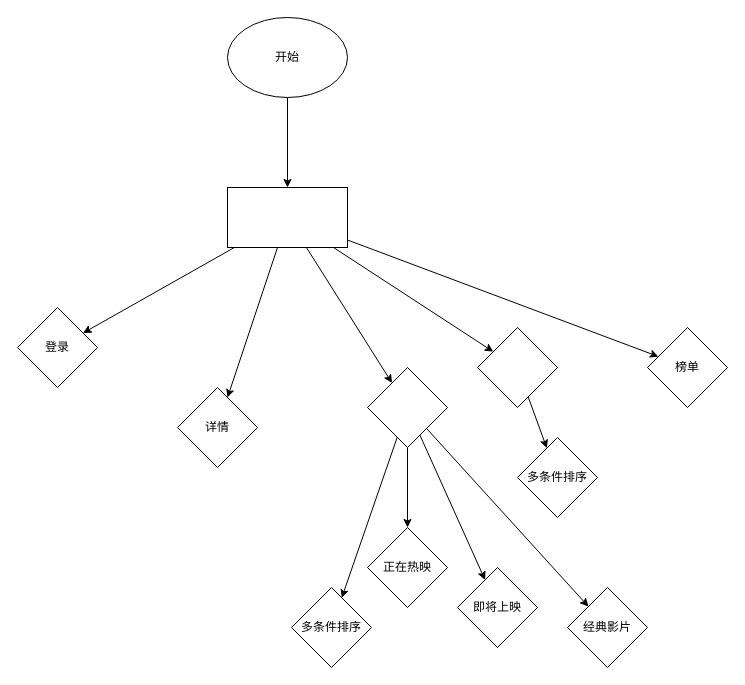
Image size: 745x685. Some labels were removed from this diagram. The centre of each missing label's shape, as x and y in pixels:
"影院" belongs at (517,367).
"电影" belongs at (407,407).
"首页" belongs at (287,217).
